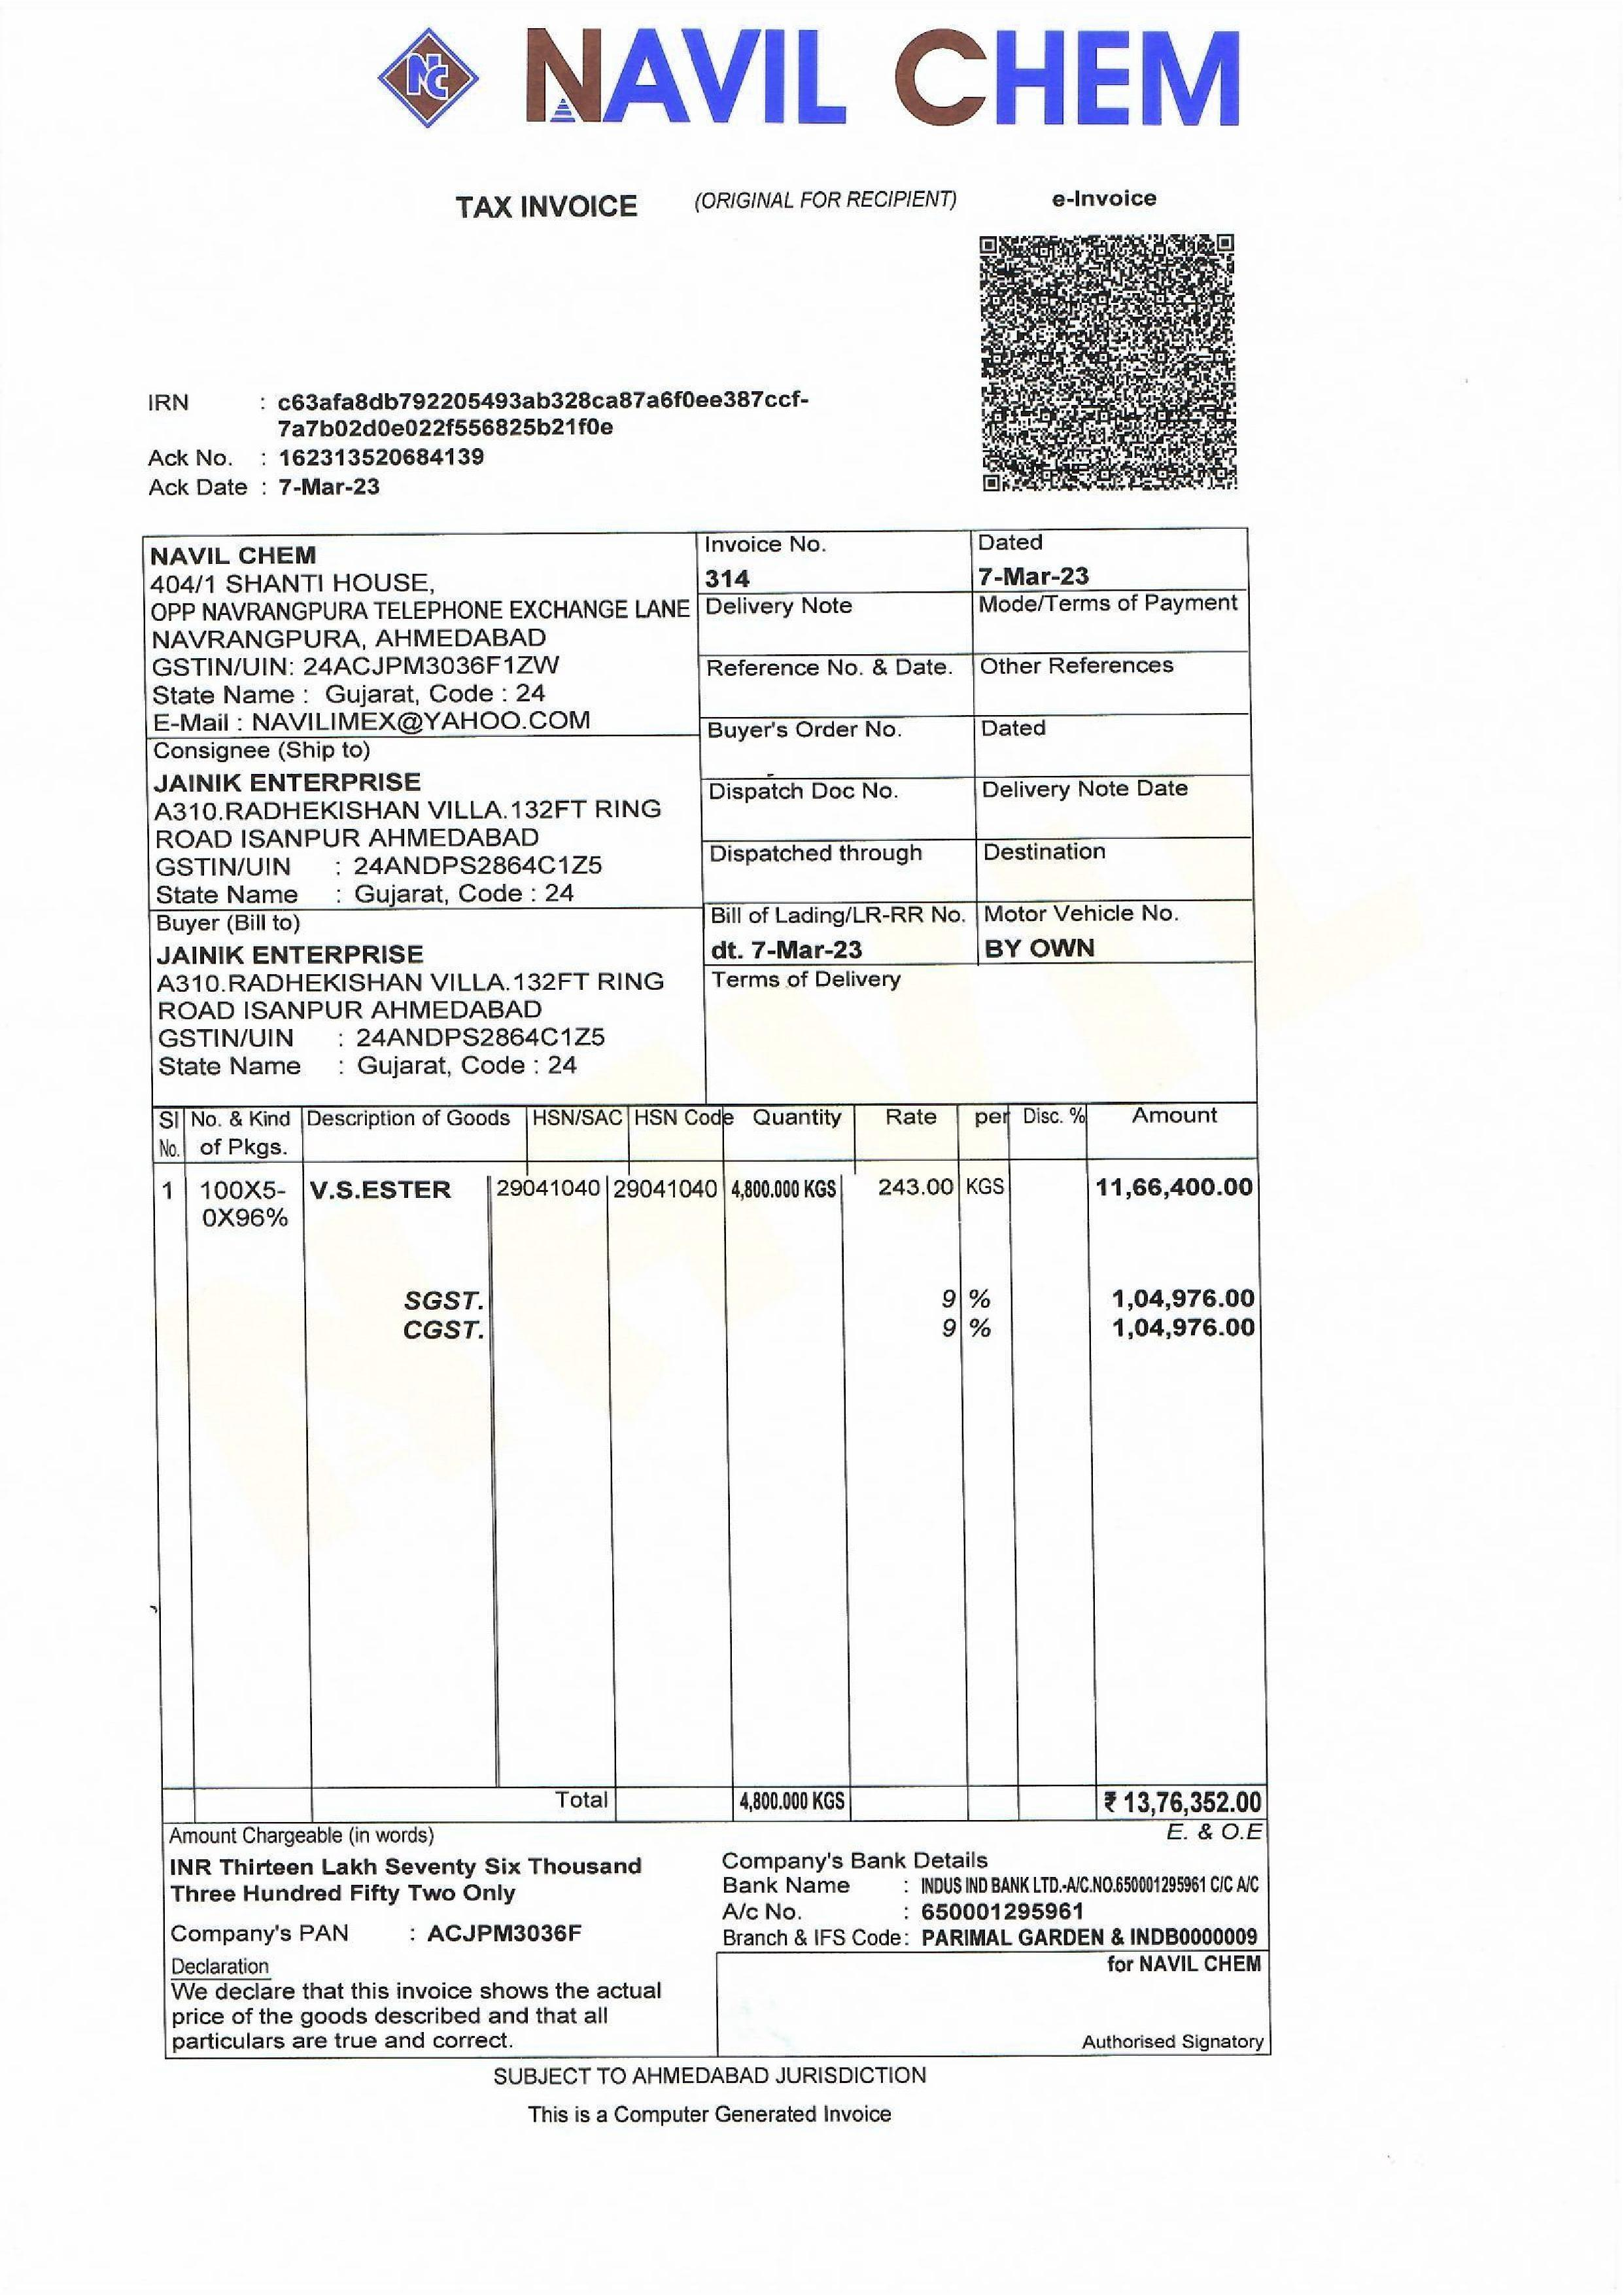InvoiceDate: (977, 564, 1097, 594)
InvoiceNumber: (701, 559, 763, 596)
TotalAmount: (1095, 1782, 1267, 1817)
